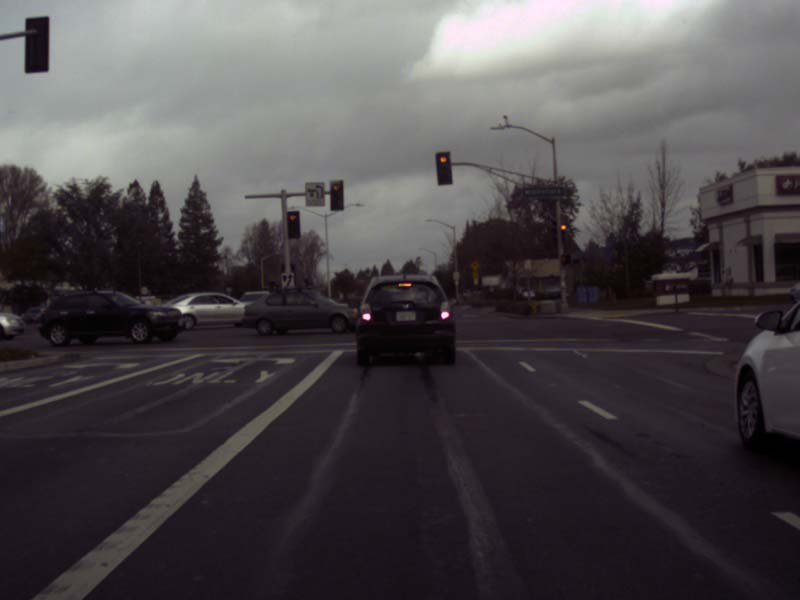Red: (435, 151, 451, 184), (329, 180, 343, 210), (287, 211, 300, 238), (560, 224, 567, 242)
